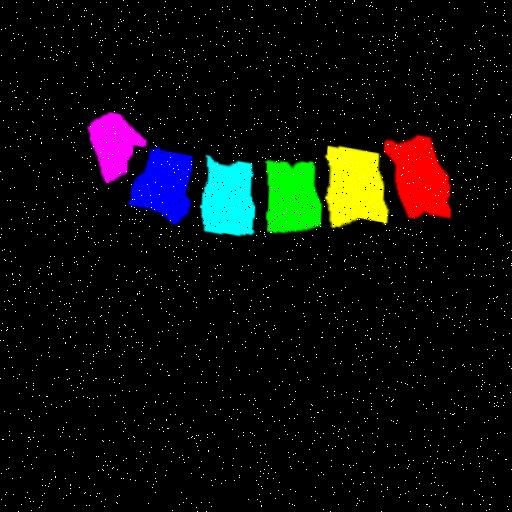L1: (382, 132, 446, 215)
L2: (320, 142, 384, 224)
L3: (262, 156, 316, 228)
L4: (196, 153, 246, 231)
L5: (126, 147, 189, 222)
S1: (86, 111, 143, 182)
